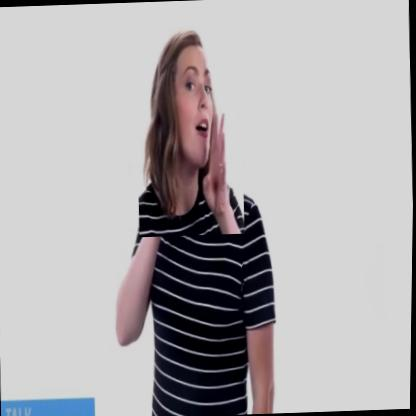Talk: (132, 15, 248, 237)
